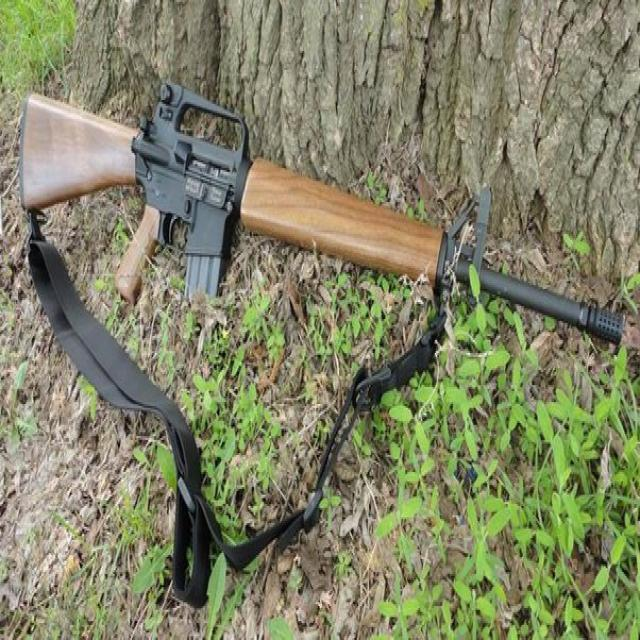weapon: (19, 79, 625, 348)
